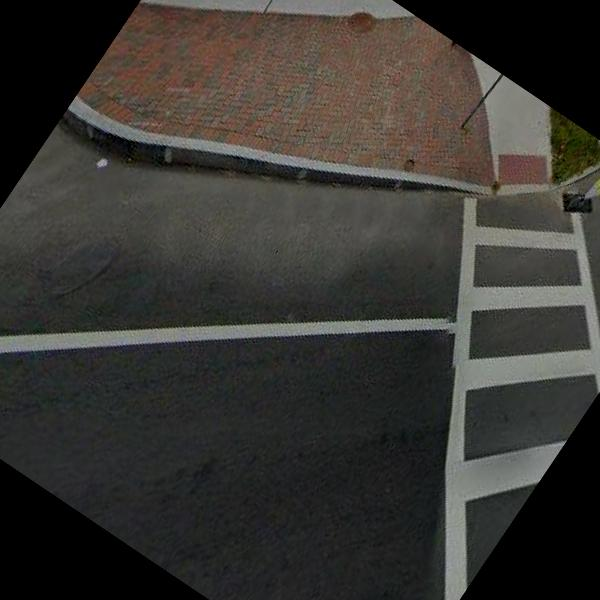manhole: (335, 0, 392, 55)
